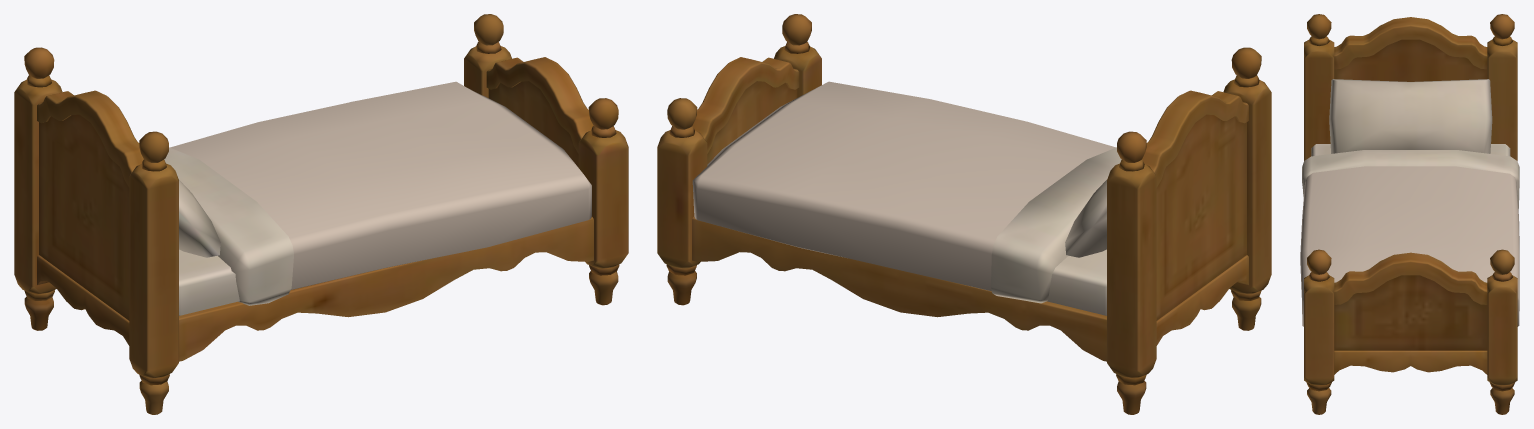
The picture shows the model from 3 angles, left to right: view 1: azimuth 30°, elevation 25°; view 2: azimuth 150°, elevation 25°; view 3: azimuth 270°, elevation 25°; orthographic projection. The views are drawn at different scales.
Size of the model in its own units: 19.4 by 10.71 by 9.59.
Materials: 2 (2 with a texture image).
